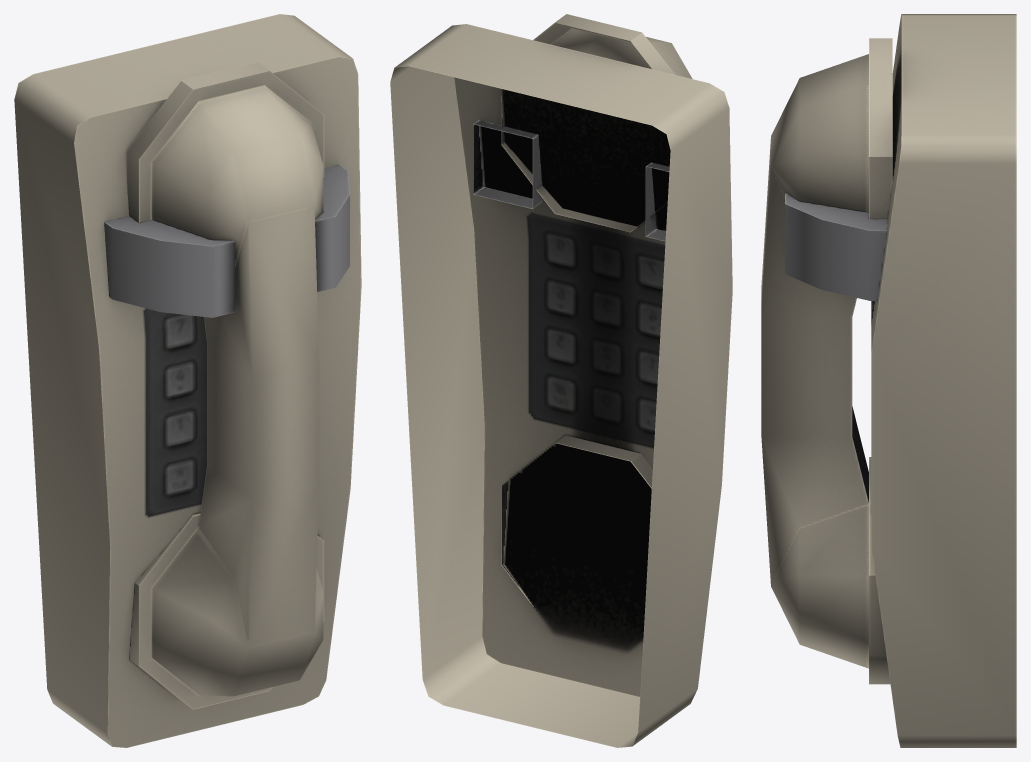
Rendered from wall_phone.FBX.
3 views of the same model, side by side, from view 1: azimuth 30°, elevation 25°; view 2: azimuth 150°, elevation 25°; view 3: azimuth 270°, elevation 25° (orthographic).
Parts seen in each view (by area): view 1: WallPhone; view 2: WallPhone; view 3: WallPhone.
Part boxes in pixels (left/top/right/bottom): WallPhone: left=14, top=14, right=361, bottom=747; WallPhone: left=390, top=14, right=732, bottom=747; WallPhone: left=761, top=14, right=1016, bottom=747.
Bounding box in the file's own units: 57.93 × 128 × 45.81.
Materials: 1 (1 with a texture image).
